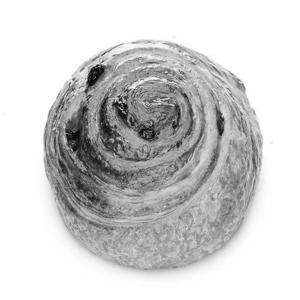bread: (52, 51, 264, 276)
